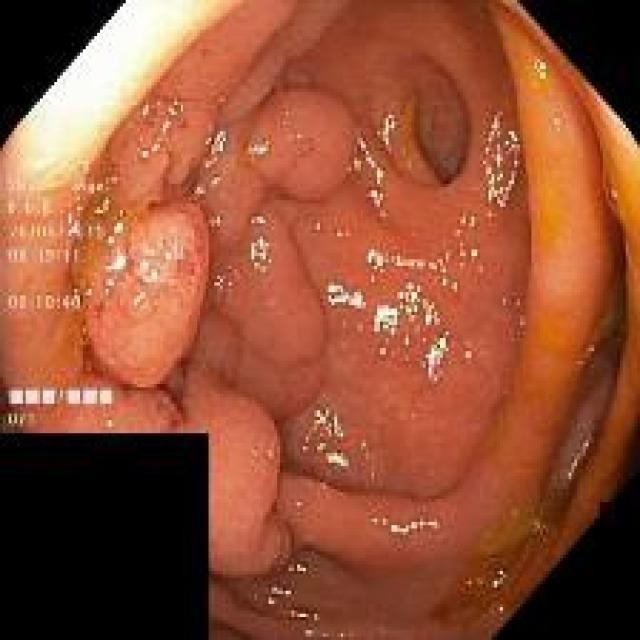Polyps: (179, 360, 291, 577), (85, 202, 210, 388), (210, 213, 326, 367), (250, 88, 356, 202), (5, 378, 180, 432), (164, 101, 215, 187)
